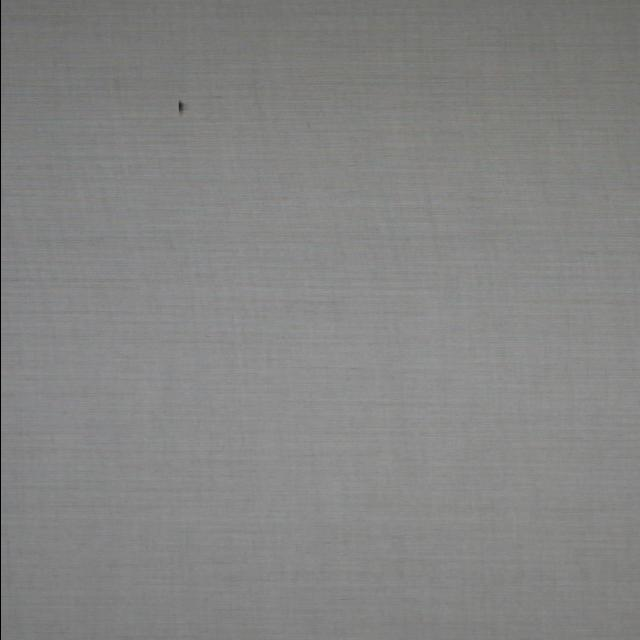dirty: (173, 98, 186, 116)
